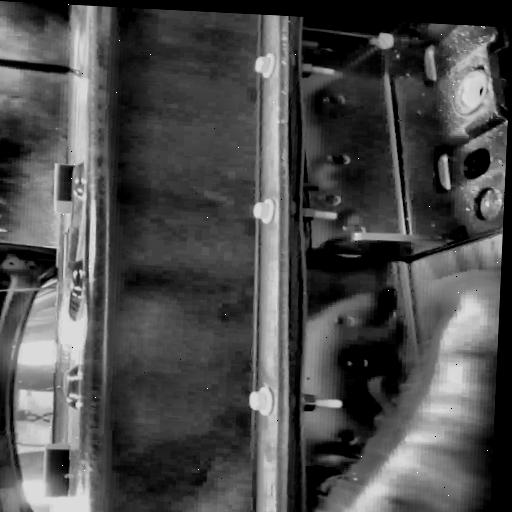nut: (246, 386, 275, 416), (253, 51, 280, 77), (252, 197, 277, 224)
